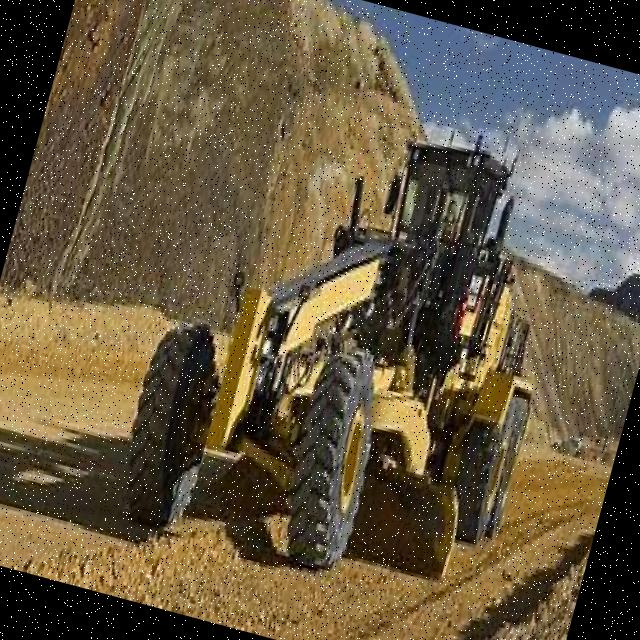Grader: (79, 59, 624, 622)
